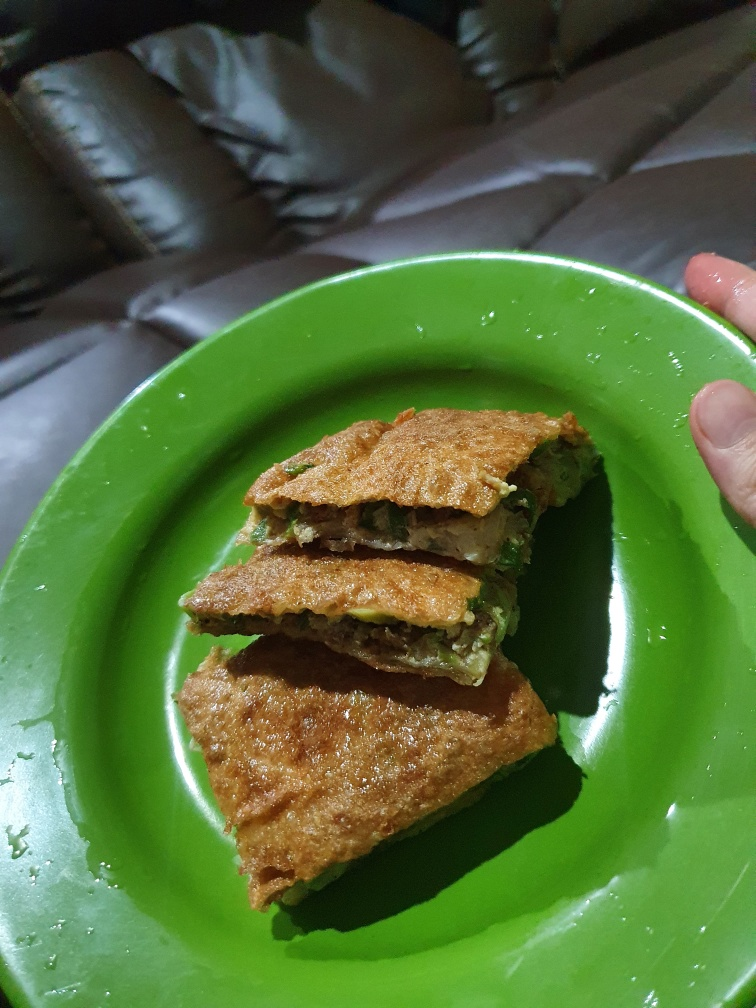martabak telor: (157, 614, 548, 892), (163, 507, 554, 673), (252, 383, 596, 552)
